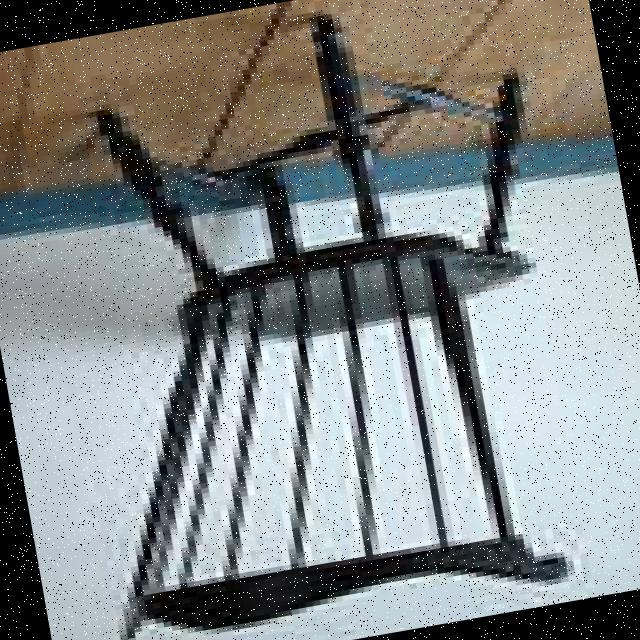Chair: (7, 0, 610, 640)
